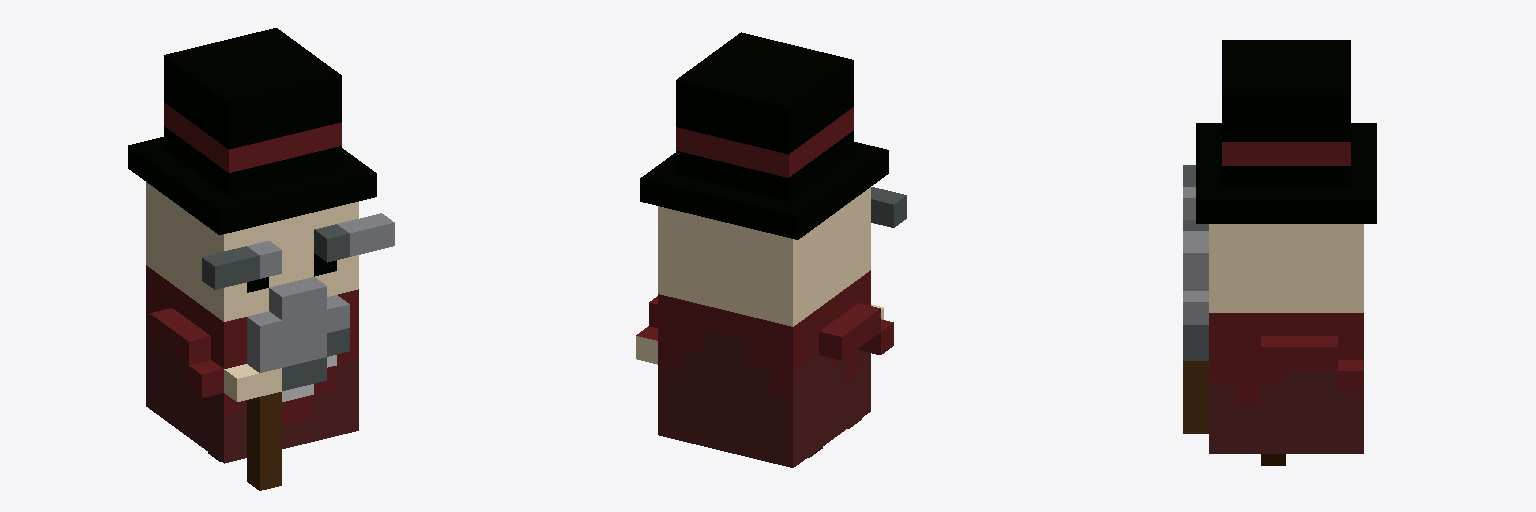
The picture shows the model from 3 angles: view 1: azimuth 30°, elevation 25°; view 2: azimuth 150°, elevation 25°; view 3: azimuth 270°, elevation 25°; orthographic projection.
Parts seen in each view (by area): view 1: cube; view 2: cube; view 3: cube.
Boxes of the visible parts, <box> form: cube: <box>128,28,394,490</box>; cube: <box>636,32,906,467</box>; cube: <box>1183,40,1376,465</box>.
Size of the model in its own units: 0.5 by 1 by 0.4688.
1 materials, 1 textured.